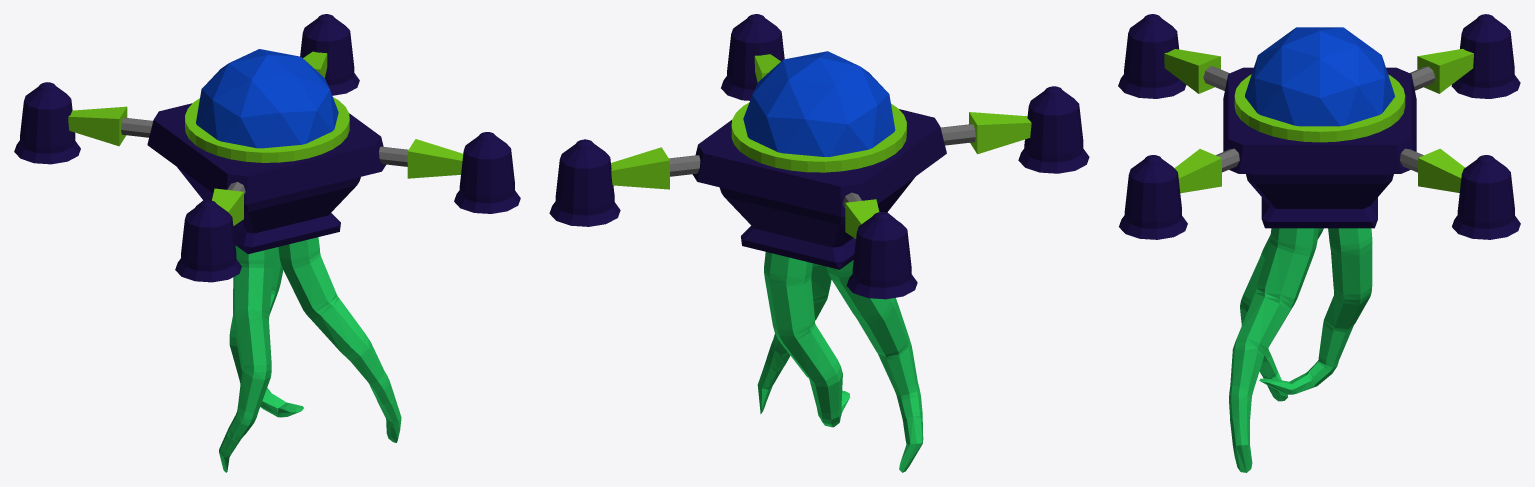
The model's file is jellyfishBoss_3.obj.
The picture shows the model from 3 angles, left to right: view 1: azimuth 30°, elevation 25°; view 2: azimuth 150°, elevation 25°; view 3: azimuth 270°, elevation 25°; orthographic projection. The views are drawn at different scales.
Parts seen in each view (by area): view 1: Base_Cube.001, Head_Icosphere, Cylinder.002_Cylinder.001, Cylinder.003_Cylinder.002, Rocket_2_Cylinder.014, Rocket_1_Cylinder.003, Rocket_3_Cylinder.016, Cylinder, Rocket_4_Cylinder.018, B_Arm_1_Cube.002, B_Arm_3_Cube.011, Cylinder.001_Cylinder.012 (+2 smaller); view 2: Base_Cube.001, Head_Icosphere, Cylinder.001_Cylinder.012, Cylinder.003_Cylinder.002, Rocket_3_Cylinder.016, Rocket_4_Cylinder.018, Rocket_2_Cylinder.014, Cylinder, Rocket_1_Cylinder.003, B_Arm_4_Cube.012, B_Arm_2_Cube.010, Cylinder.002_Cylinder.001 (+3 smaller); view 3: Base_Cube.001, Head_Icosphere, Cylinder.002_Cylinder.001, Cylinder.001_Cylinder.012, Rocket_4_Cylinder.018, Rocket_1_Cylinder.003, Rocket_3_Cylinder.016, Rocket_2_Cylinder.014, Cylinder, B_Arm_2_Cube.010, B_Arm_3_Cube.011, B_Arm_1_Cube.002 (+4 smaller).
Boxes of the visible parts, x1,y1,x2,y2 form: Base_Cube.001: (147,103,385,254); Head_Icosphere: (196,49,338,148); Cylinder.002_Cylinder.001: (278,237,401,442); Cylinder.003_Cylinder.002: (219,245,274,472); Rocket_2_Cylinder.014: (175,200,241,282); Rocket_1_Cylinder.003: (454,132,520,213); Rocket_3_Cylinder.016: (14,82,80,164); Cylinder: (185,97,349,162); Rocket_4_Cylinder.018: (300,14,359,95); B_Arm_1_Cube.002: (407,139,463,178); B_Arm_3_Cube.011: (68,106,127,146); Cylinder.001_Cylinder.012: (229,247,303,417); Base_Cube.001: (692,109,946,269); Head_Icosphere: (743,51,895,156); Cylinder.001_Cylinder.012: (764,252,850,427); Cylinder.003_Cylinder.002: (826,260,923,472); Rocket_3_Cylinder.016: (846,211,917,299); Rocket_4_Cylinder.018: (549,139,620,226); Rocket_2_Cylinder.014: (1018,86,1089,173); Cylinder: (731,102,906,172); Rocket_1_Cylinder.003: (721,14,784,100); B_Arm_4_Cube.012: (611,147,669,189); B_Arm_2_Cube.010: (969,112,1031,154); Cylinder.002_Cylinder.001: (757,263,831,414); Base_Cube.001: (1223,67,1416,228); Head_Icosphere: (1245,27,1394,126); Cylinder.002_Cylinder.001: (1229,228,1318,472); Cylinder.001_Cylinder.012: (1259,228,1372,395); Rocket_4_Cylinder.018: (1452,155,1520,239); Rocket_1_Cylinder.003: (1119,155,1187,239); Rocket_3_Cylinder.016: (1451,14,1520,98); Rocket_2_Cylinder.014: (1118,14,1186,98); Cylinder: (1234,74,1405,142); B_Arm_2_Cube.010: (1164,49,1220,93); B_Arm_3_Cube.011: (1417,49,1473,93); B_Arm_1_Cube.002: (1174,149,1221,193).
Size of the model in its own units: 14.77 by 16.25 by 14.77.
